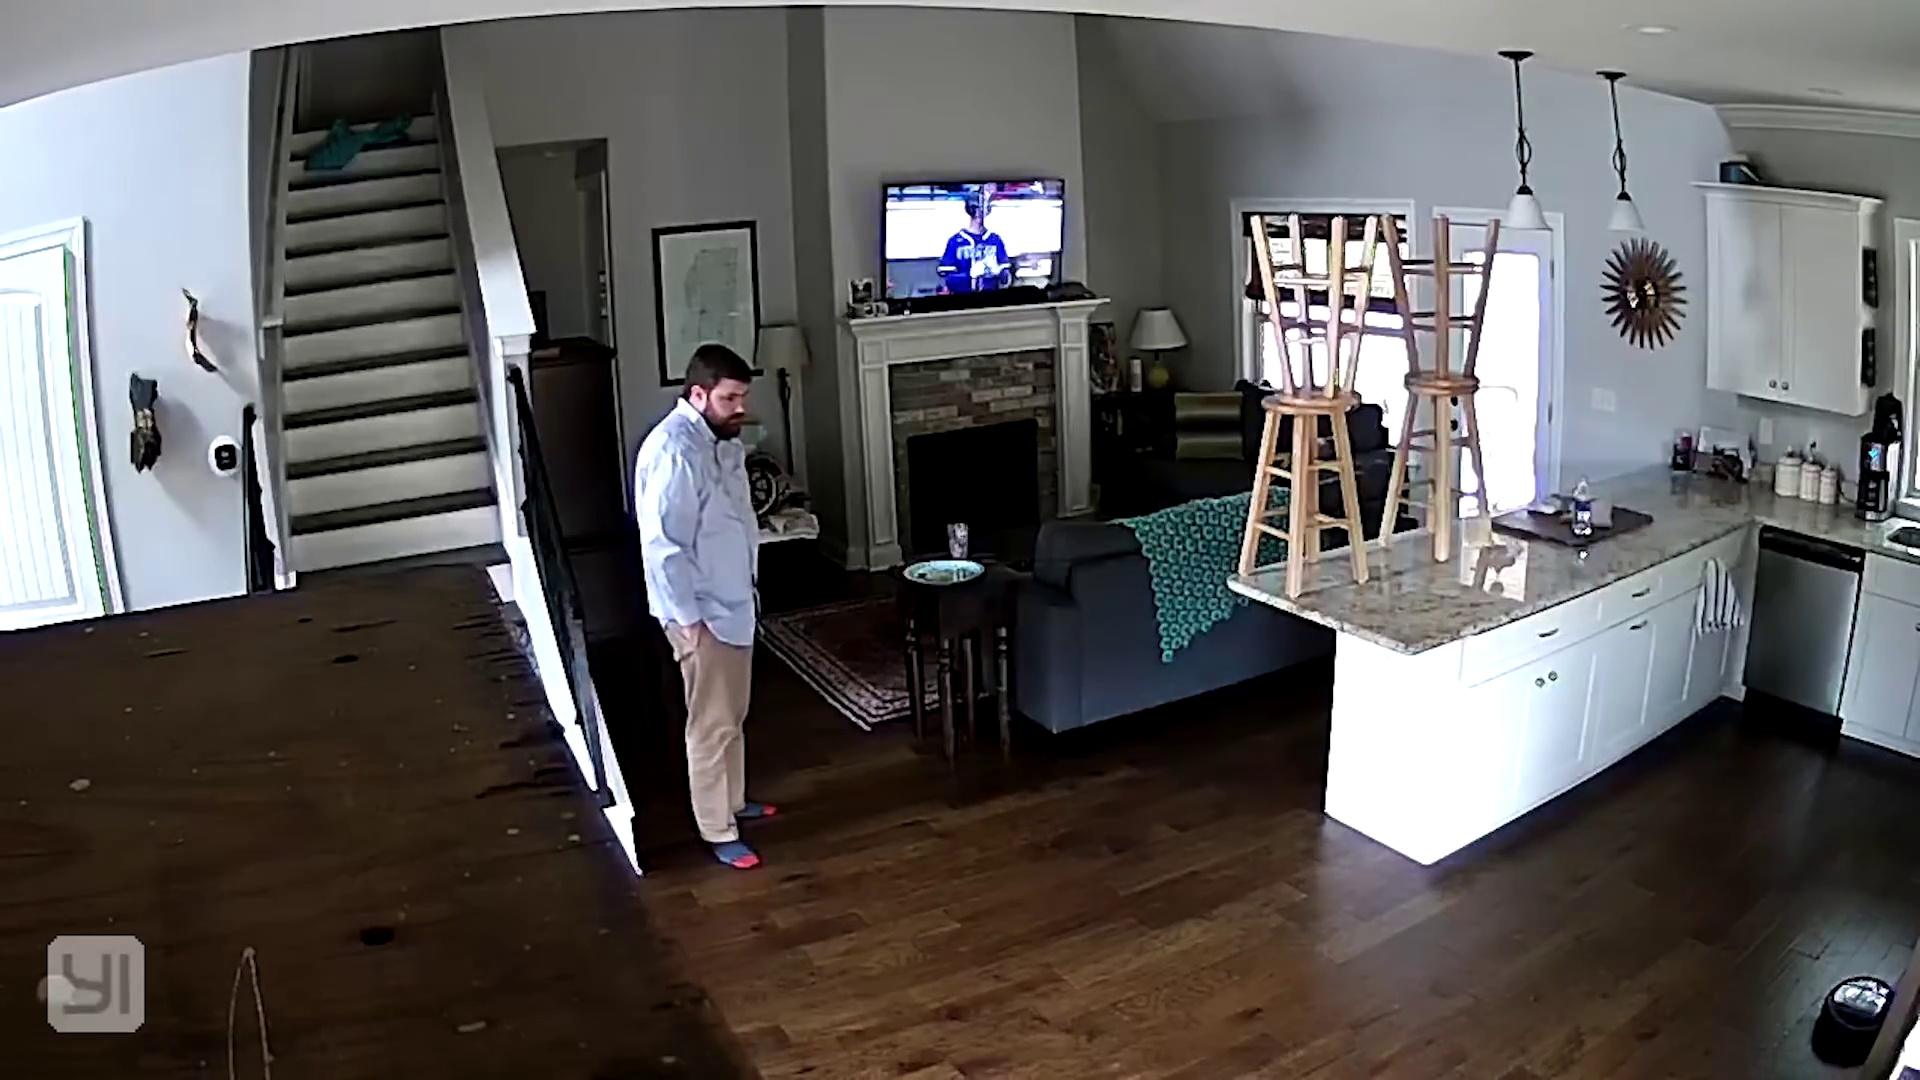face: (705, 375, 749, 430)
